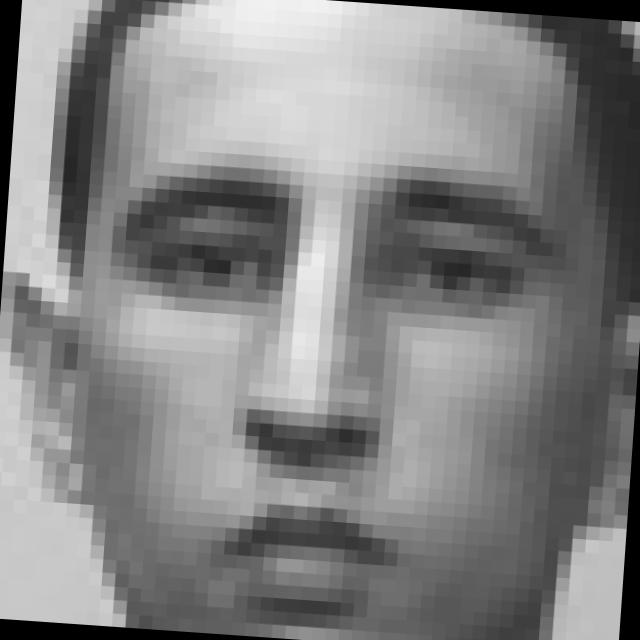neutral: (72, 143, 571, 638)
